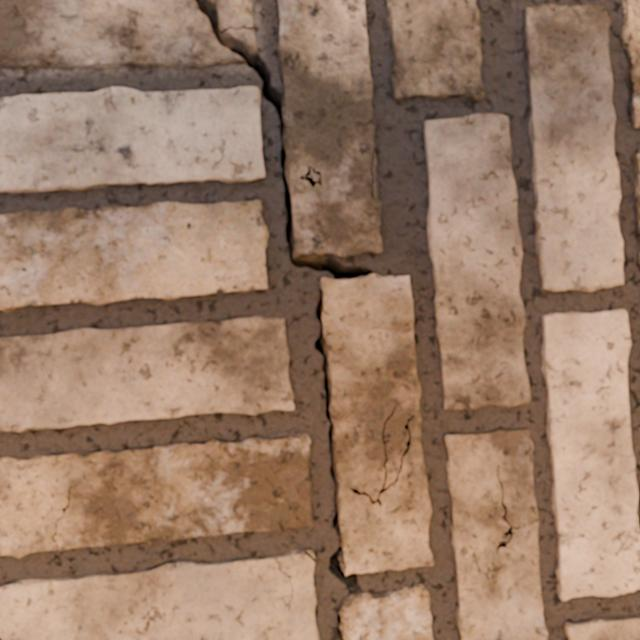broken_brick: (0, 0, 245, 69), (208, 0, 253, 27), (229, 28, 257, 53)
crack: (0, 0, 433, 639), (0, 432, 314, 557), (0, 316, 294, 432), (424, 113, 530, 409), (0, 200, 268, 312), (0, 549, 319, 639), (524, 4, 623, 291), (542, 309, 639, 600), (444, 428, 548, 639), (387, 0, 484, 102), (620, 0, 639, 128), (564, 615, 639, 639), (633, 154, 639, 247)
